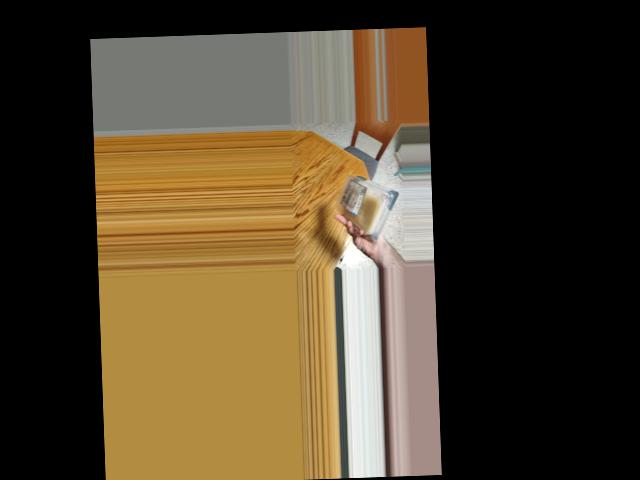cheese: (336, 170, 392, 239)
